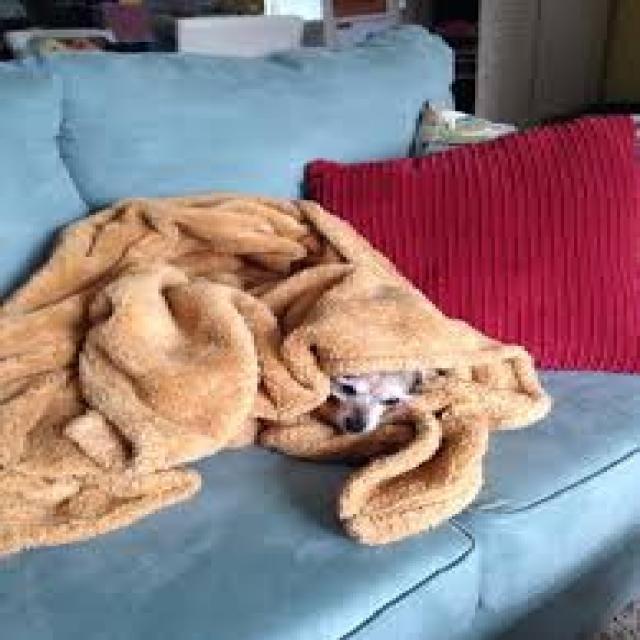blanket: (3, 195, 548, 553)
